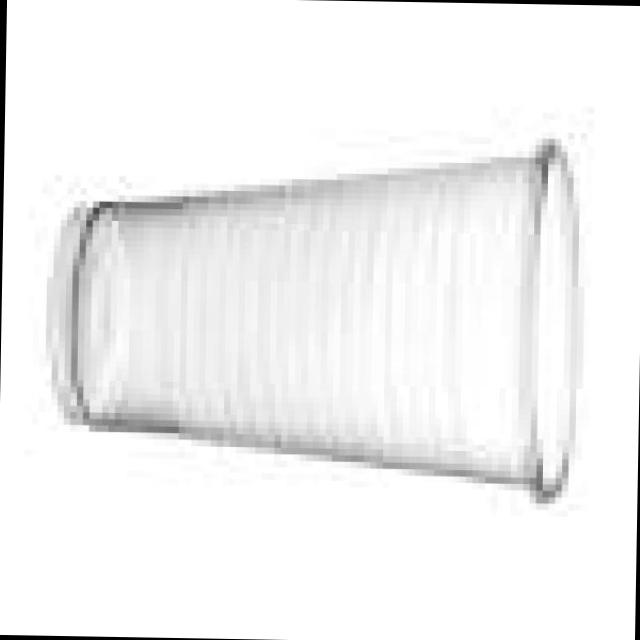Coffee Mug: (48, 124, 580, 486)
